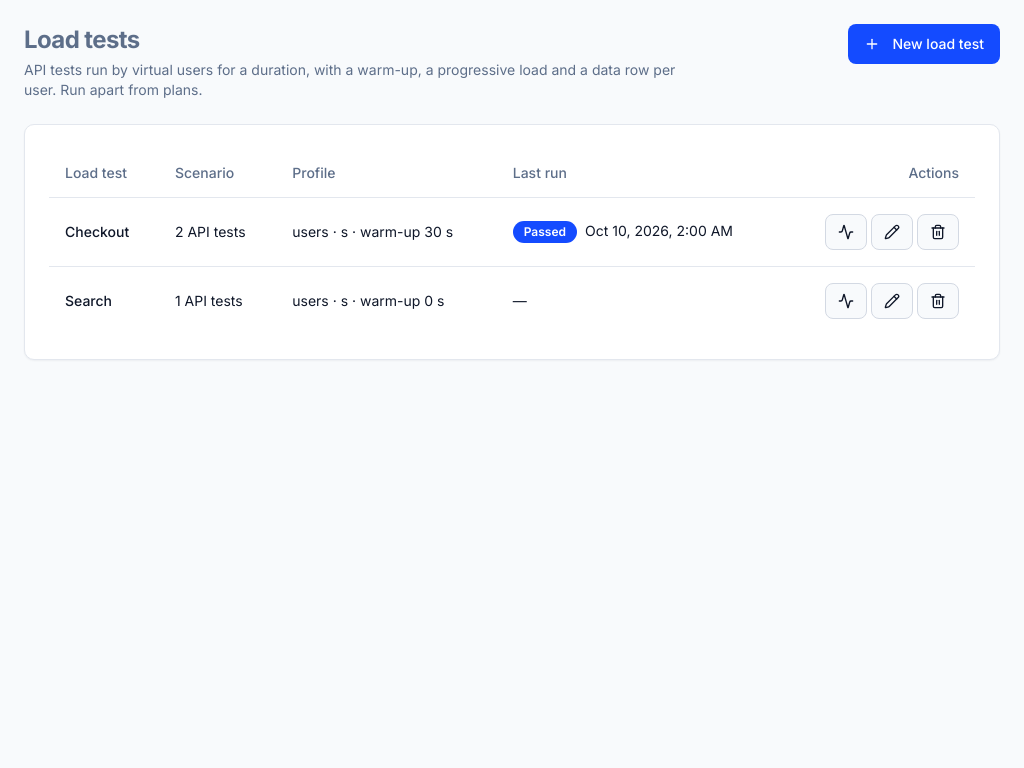
Scenario: LoadTestsPage › keeps the start button off while a run is queued, as while one runs
Expected: the row with test id "load-test-7" is shown, [49,197,975,266]
Click the button named "Runs of Checkout".
click(846, 232)  # box [825,214,867,250]
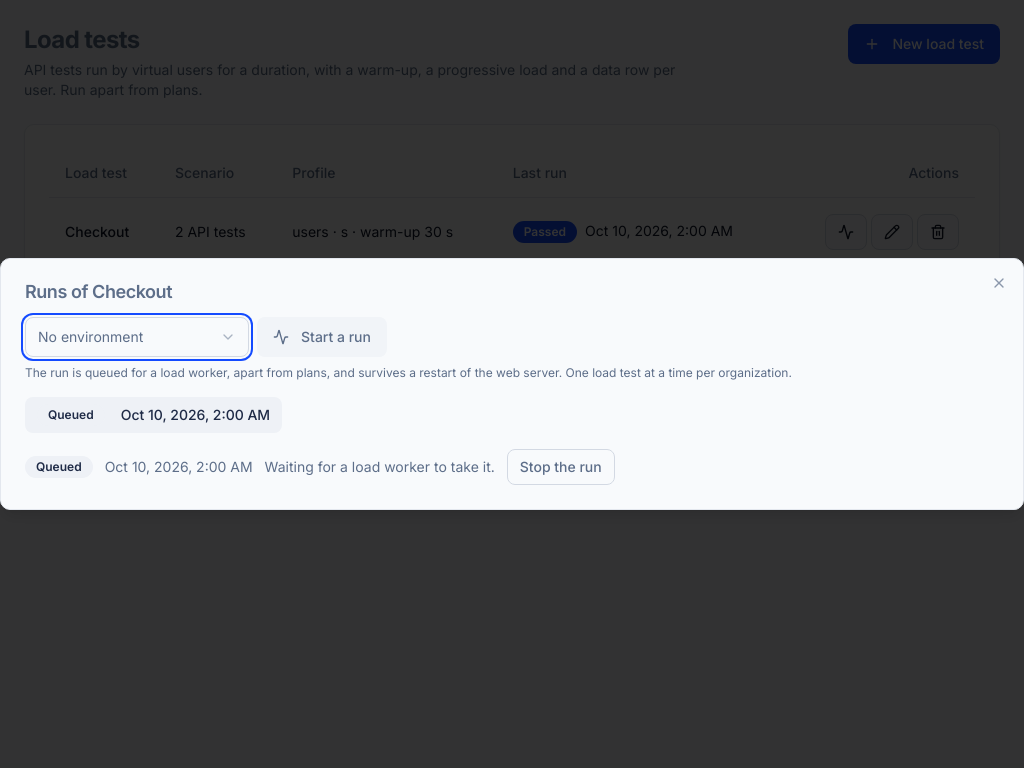
Expected: the element with test id "load-run-run-1" is shown, [25,449,615,485]
Expected: the text "Queued" is shown 2 times, [37,404,105,426]; [25,456,93,478]
Expected: the button "Start a run" is disabled, [257,317,387,357]
